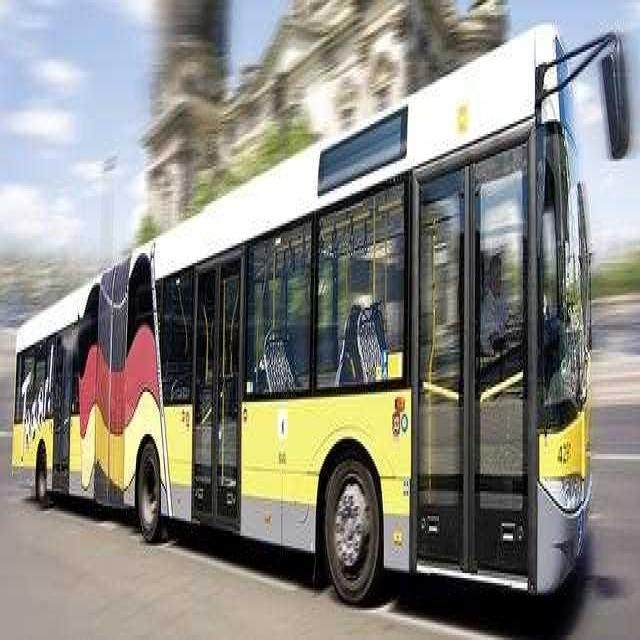Bus: (10, 3, 638, 639)
